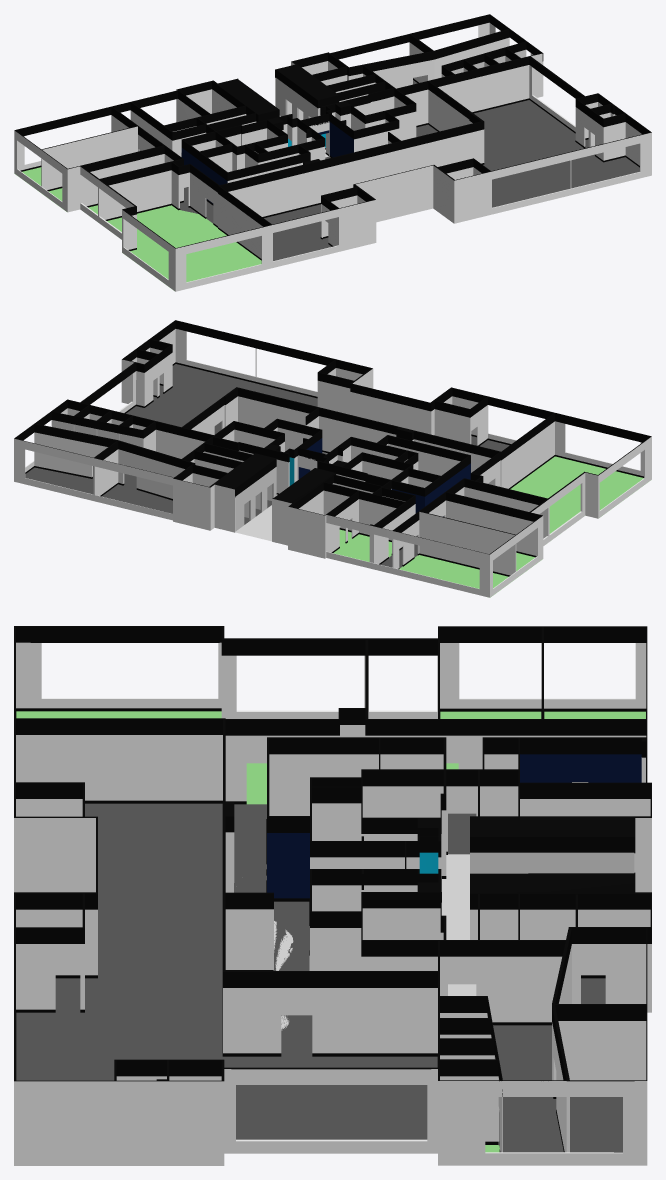
Rendered from 4to piso  FBX.fbx.
3 renders of one model, top to bottom at view 1: azimuth 30°, elevation 25°; view 2: azimuth 150°, elevation 25°; view 3: azimuth 270°, elevation 25°, orthographic. The views are drawn at different scales.
Visible parts, largest first — view 1: PISO; view 2: PISO; view 3: PISO.
Part boxes in pixels (bbox=[...]): PISO: bbox=[14, 14, 651, 291]; PISO: bbox=[14, 320, 651, 597]; PISO: bbox=[14, 626, 651, 1165].
Size of the model in its own units: 4765 by 512 by 2821.
